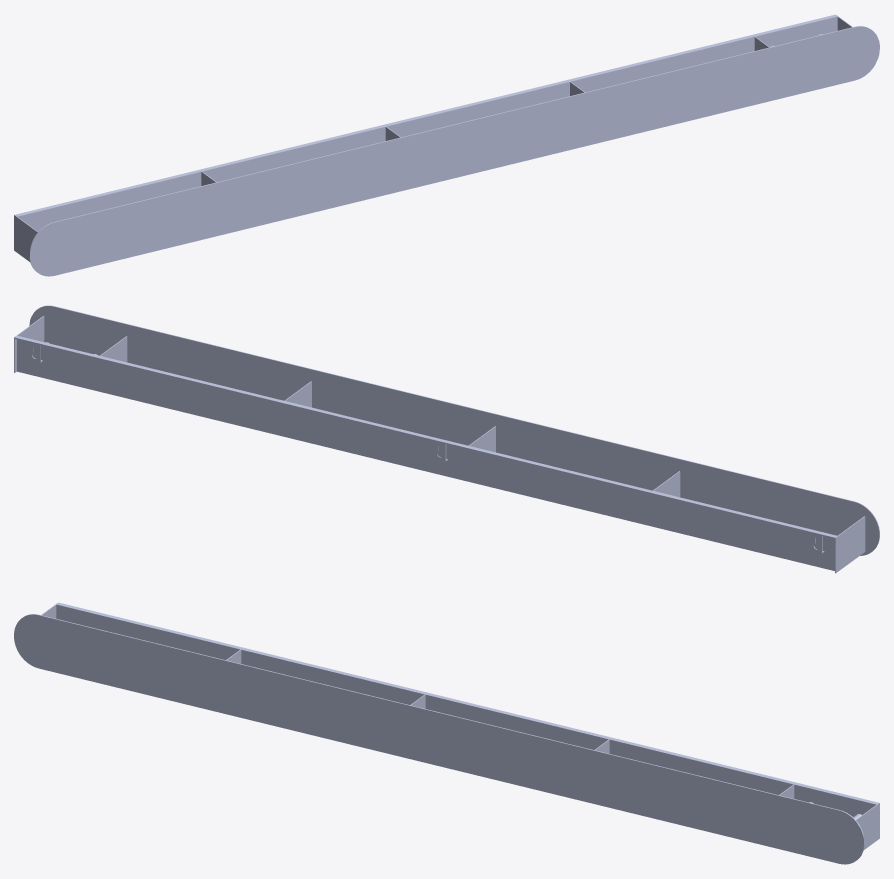
Rendered from round-patron.78f3458cc4.glb.
3 views of the same model, one above another, from view 1: azimuth 30°, elevation 25°; view 2: azimuth 150°, elevation 25°; view 3: azimuth 330°, elevation 25° (orthographic).
Visible parts, largest first — view 1: NAUO1; view 2: NAUO1; view 3: NAUO1.
Part boxes in pixels (x1,y1,x2,y2): NAUO1: [14, 14, 879, 276]; NAUO1: [14, 305, 879, 573]; NAUO1: [14, 602, 879, 864].
Size of the model in its own units: 1.5 by 0.0899 by 0.0919.
